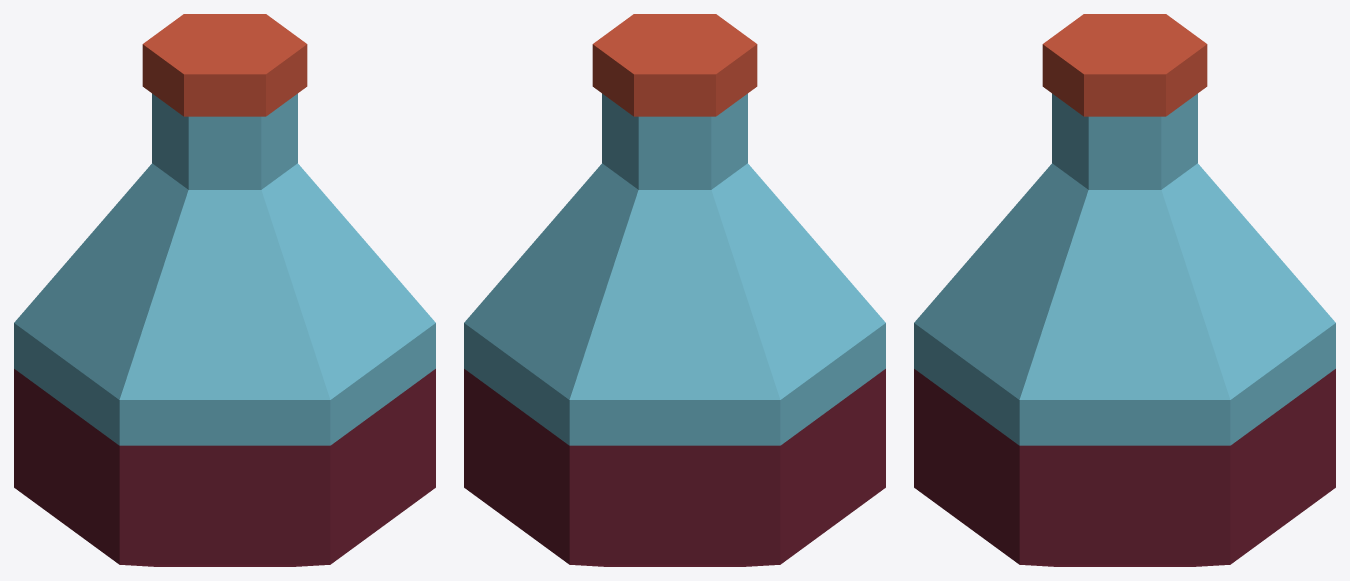
Rendered from Antidotum.fbx.
The picture shows the model from 3 angles, left to right: view 1: azimuth 30°, elevation 25°; view 2: azimuth 150°, elevation 25°; view 3: azimuth 270°, elevation 25°; orthographic projection.
Parts seen in each view (by area): view 1: Cylinder; view 2: Cylinder; view 3: Cylinder.
Boxes of the visible parts, x1,y1,x2,y2 form: Cylinder: [14, 14, 435, 566]; Cylinder: [464, 14, 885, 566]; Cylinder: [914, 14, 1335, 566].
Bounding box in the file's own units: 10.21 × 14.58 × 11.79.
